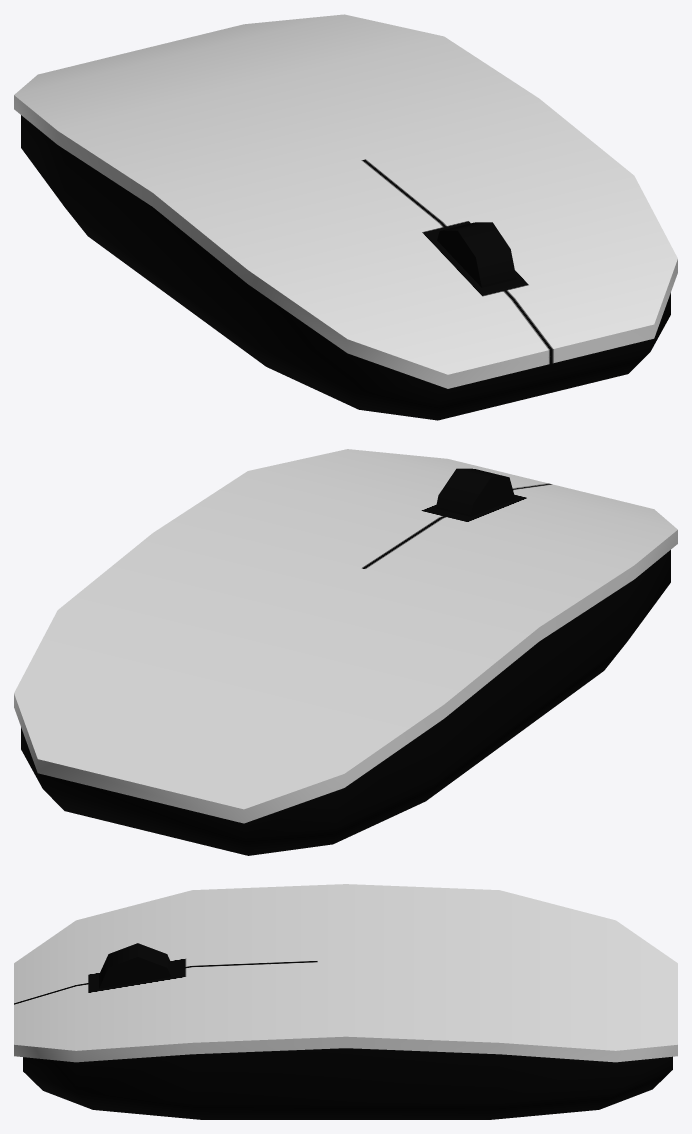
File: Mouse Nuevo.fbx
3 renders of one model, top to bottom at view 1: azimuth 30°, elevation 25°; view 2: azimuth 150°, elevation 25°; view 3: azimuth 270°, elevation 25°, orthographic. The views are drawn at different scales.
Parts seen in each view (by area): view 1: Mouse Nuevo; view 2: Mouse Nuevo; view 3: Mouse Nuevo.
Part boxes in pixels (x1,y1,x2,y2): Mouse Nuevo: (14,14,677,420); Mouse Nuevo: (14,449,677,855); Mouse Nuevo: (14,884,677,1119).
Size of the model in its own units: 18.22 by 5.76 by 33.48.
2 materials, 1 textured.
